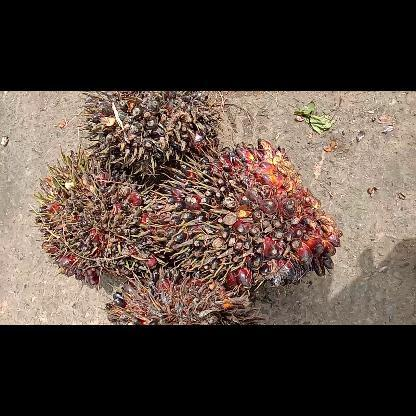TBS abnormal: (171, 139, 341, 294), (40, 152, 164, 276), (80, 90, 219, 180), (105, 274, 268, 324)
